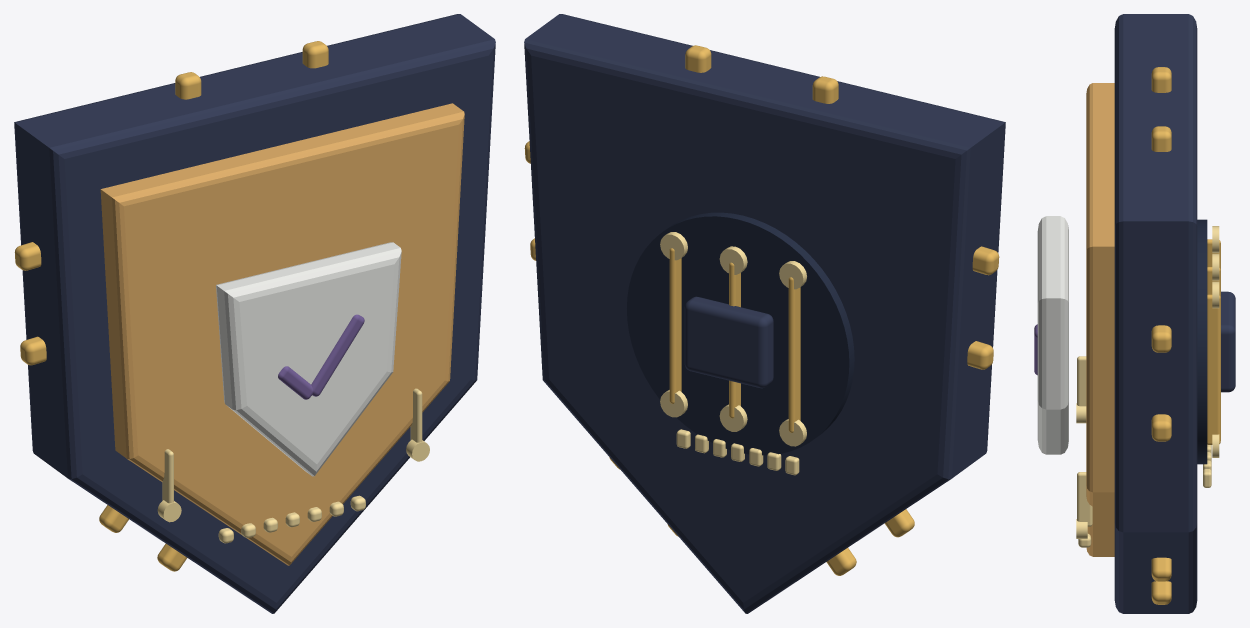
The model's file is chip-ethics.glb.
3 renders of one model, left to right at view 1: azimuth 30°, elevation 25°; view 2: azimuth 150°, elevation 25°; view 3: azimuth 270°, elevation 25°, orthographic. The views are drawn at different scales.
Parts seen in each view (by area): view 1: component (×7); view 2: component (×9); view 3: component (×14).
Boxes of the visible parts, x1,y1,x2,y2 form: component (×7): [14, 14, 495, 613]; component (×9): [524, 14, 1005, 613]; component (×14): [1037, 14, 1235, 613].
Size of the model in its own units: 0.0363 by 0.0399 by 0.0141.
